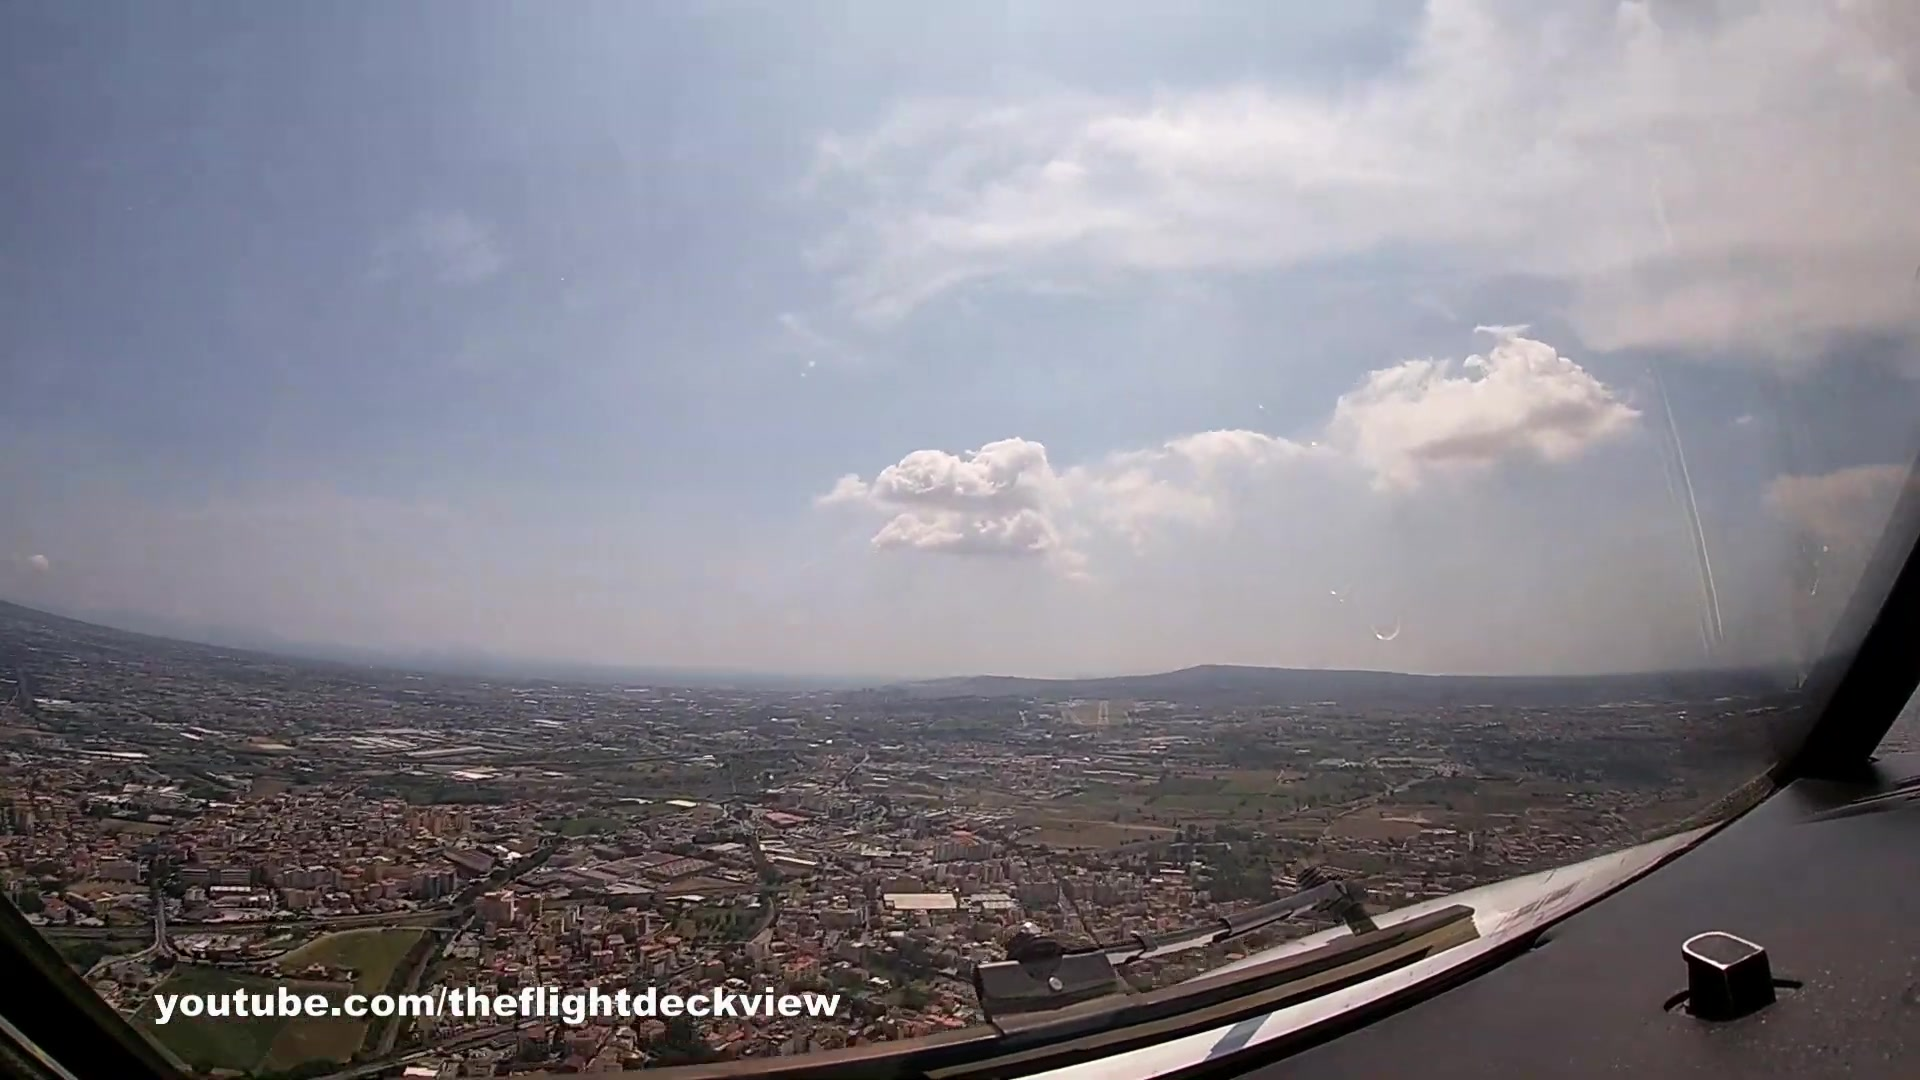runway: (1092, 698, 1112, 727)
